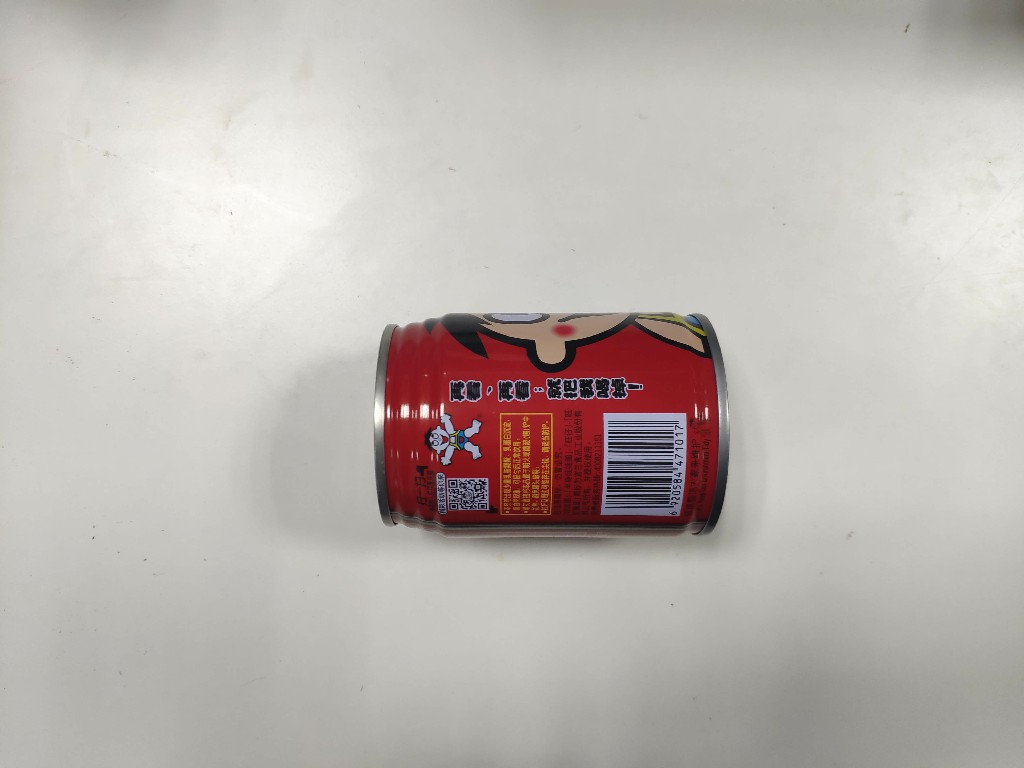can: (370, 310, 735, 547)
